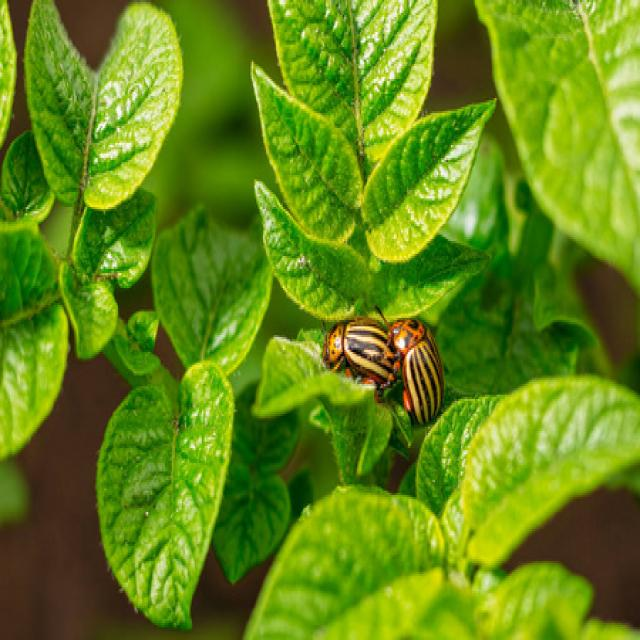ShuCaiHuaBanChong-Grown-: (323, 300, 399, 400), (395, 319, 449, 432)
